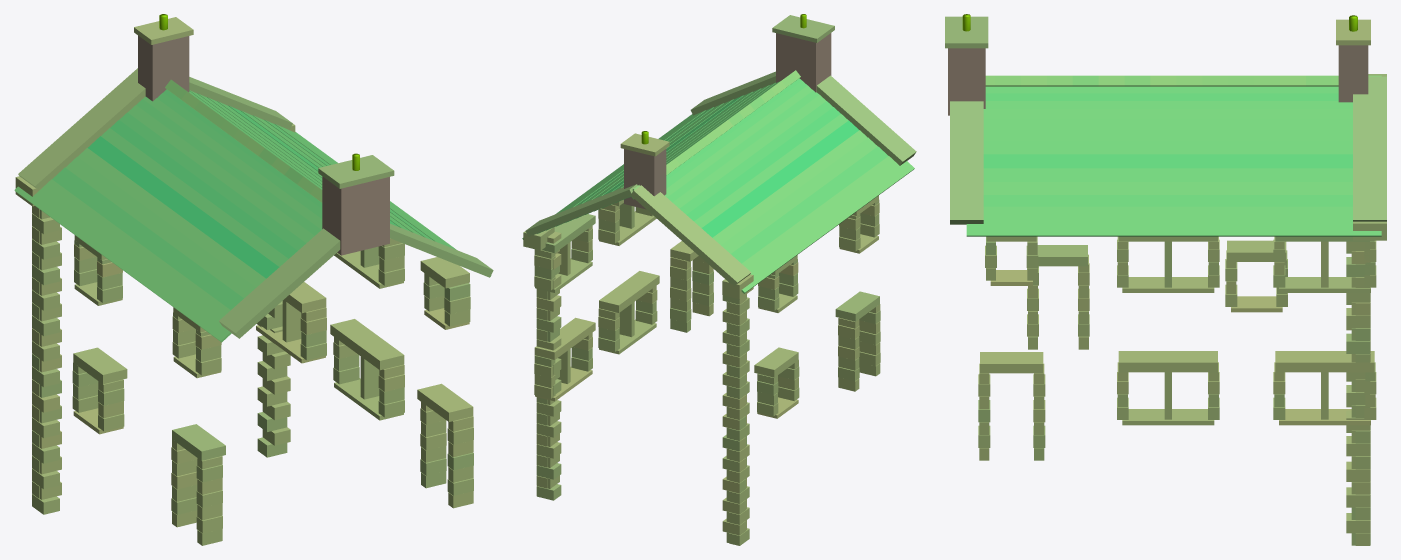
File: SM_Bld_218_Stone.glb
The picture shows the model from 3 angles, left to right: view 1: azimuth 30°, elevation 25°; view 2: azimuth 150°, elevation 25°; view 3: azimuth 270°, elevation 25°; orthographic projection. The views are drawn at different scales.
Visible parts, largest first — view 1: SM_Bld_218_Stone; view 2: SM_Bld_218_Stone; view 3: SM_Bld_218_Stone.
Boxes of the visible parts, left/top/right/bottom form: SM_Bld_218_Stone: left=14, top=14, right=493, bottom=545; SM_Bld_218_Stone: left=522, top=14, right=916, bottom=545; SM_Bld_218_Stone: left=945, top=14, right=1386, bottom=545.
Size of the model in its own units: 6.67 by 11.01 by 9.38.
